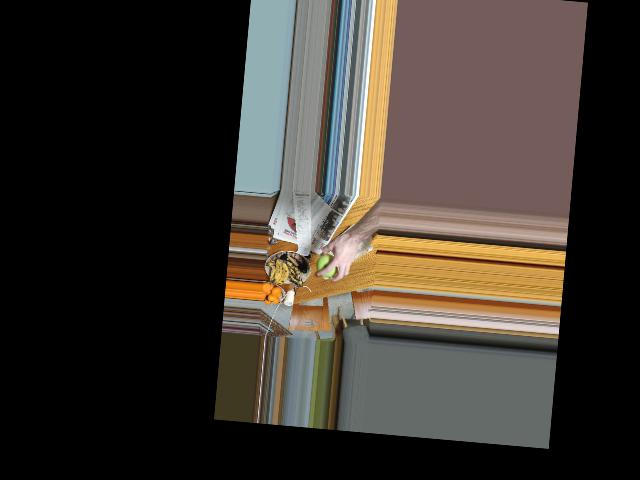apple: (316, 252, 339, 278)
